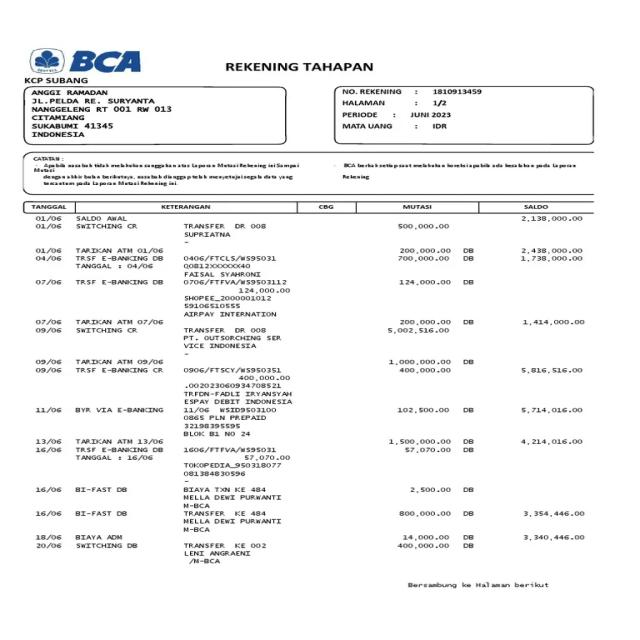transaction: (30, 277, 589, 318), (33, 446, 588, 486), (33, 365, 590, 403), (33, 404, 589, 438), (32, 327, 590, 357), (34, 484, 591, 509), (33, 542, 589, 567), (33, 222, 590, 246), (33, 508, 589, 532), (31, 254, 586, 278), (31, 316, 590, 327), (33, 356, 586, 367), (34, 532, 588, 542), (33, 246, 590, 255), (33, 438, 588, 446), (34, 215, 590, 222)
